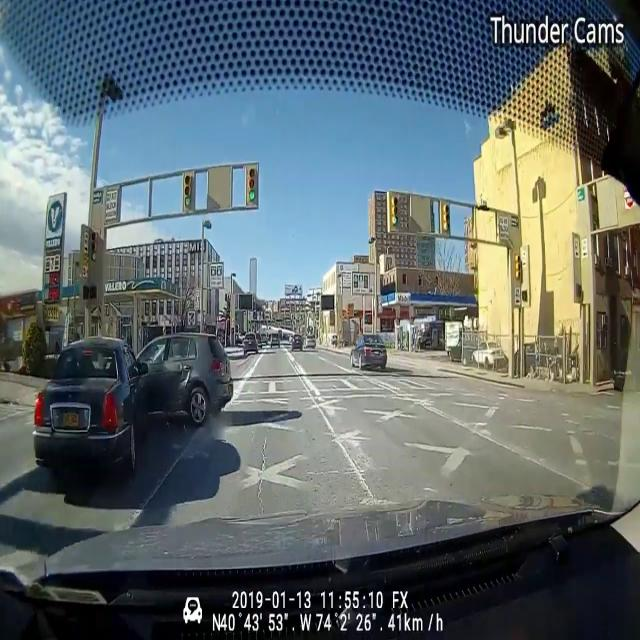accident: (35, 316, 234, 488)
